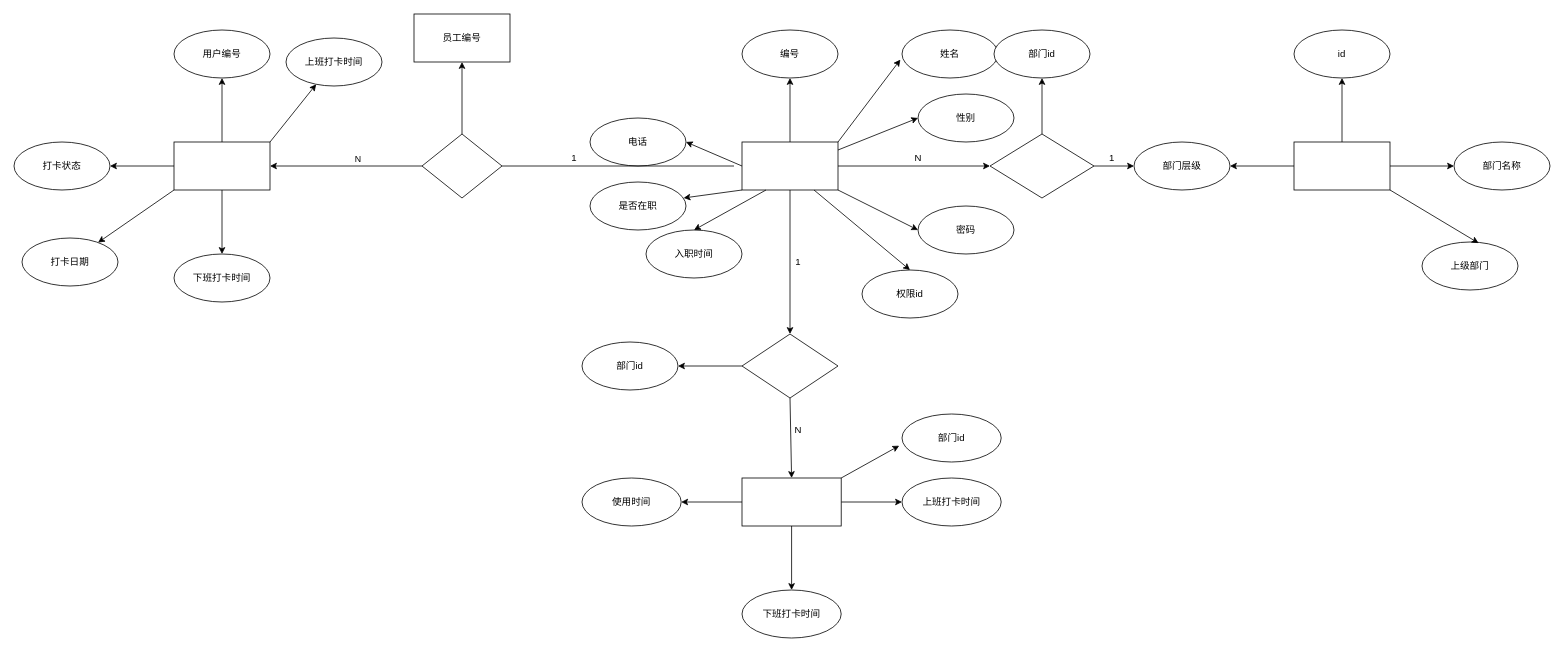
The diagram is 1564 pixels wide and 652 high, and some of its shapes have lost their labels. The centre of each missing label's shape, as x and y in pixels:
产生: (461,165)
使用: (789,365)
员工: (789,165)
打卡记录表: (221,165)
排班表: (791,501)
部门表: (1341,165)
隶属: (1041,165)
